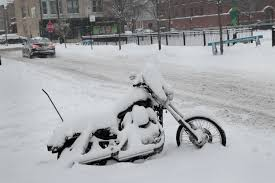motorcycle: (44, 63, 227, 166)
